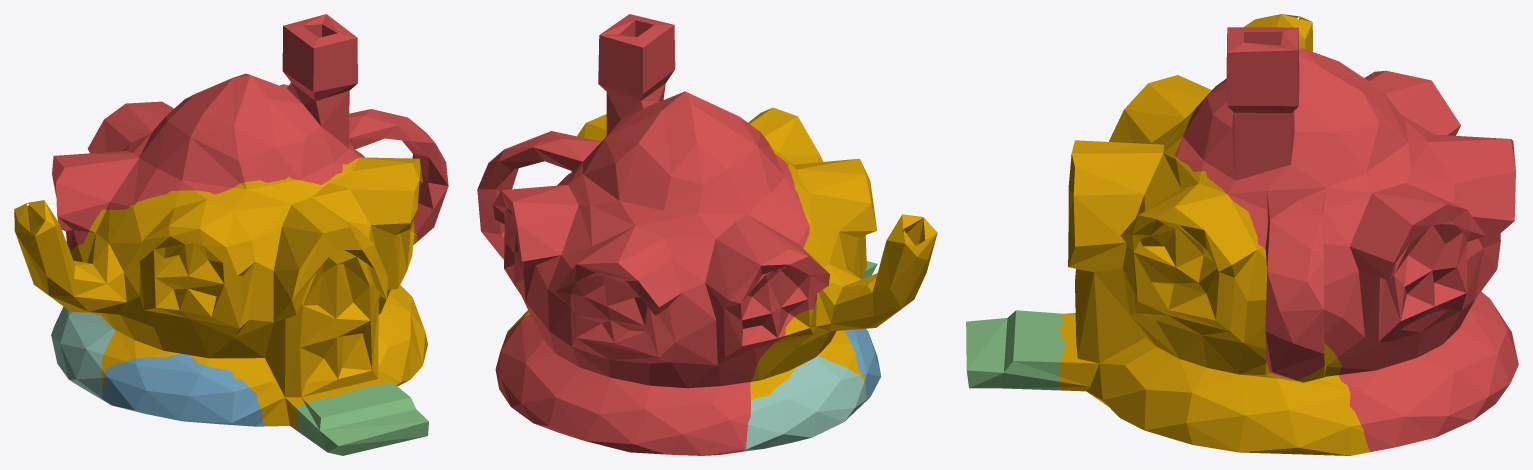
The model's file is mode_8_5pcs.glb.
The picture shows the model from 3 angles, left to right: view 1: azimuth 30°, elevation 25°; view 2: azimuth 150°, elevation 25°; view 3: azimuth 270°, elevation 25°; orthographic projection. The views are drawn at different scales.
Visible parts, largest first — view 1: piece_0.obj, piece_1.obj, piece_2.obj, piece_3.obj, piece_5.obj; view 2: piece_1.obj, piece_0.obj, piece_5.obj, piece_2.obj; view 3: piece_1.obj, piece_0.obj, piece_3.obj.
Boxes of the visible parts, bbox=[...] form: piece_0.obj: bbox=[14, 157, 427, 430]; piece_1.obj: bbox=[52, 14, 448, 315]; piece_2.obj: bbox=[102, 353, 265, 426]; piece_3.obj: bbox=[296, 382, 428, 455]; piece_5.obj: bbox=[51, 307, 115, 399]; piece_1.obj: bbox=[477, 14, 829, 455]; piece_0.obj: bbox=[502, 107, 937, 400]; piece_5.obj: bbox=[741, 355, 866, 451]; piece_2.obj: bbox=[845, 328, 881, 401]; piece_1.obj: bbox=[1175, 27, 1518, 452]; piece_0.obj: bbox=[1058, 14, 1369, 455]; piece_3.obj: bbox=[966, 310, 1066, 390].
Bounding box in the file's own units: 1 × 0.7166 × 0.9673.
